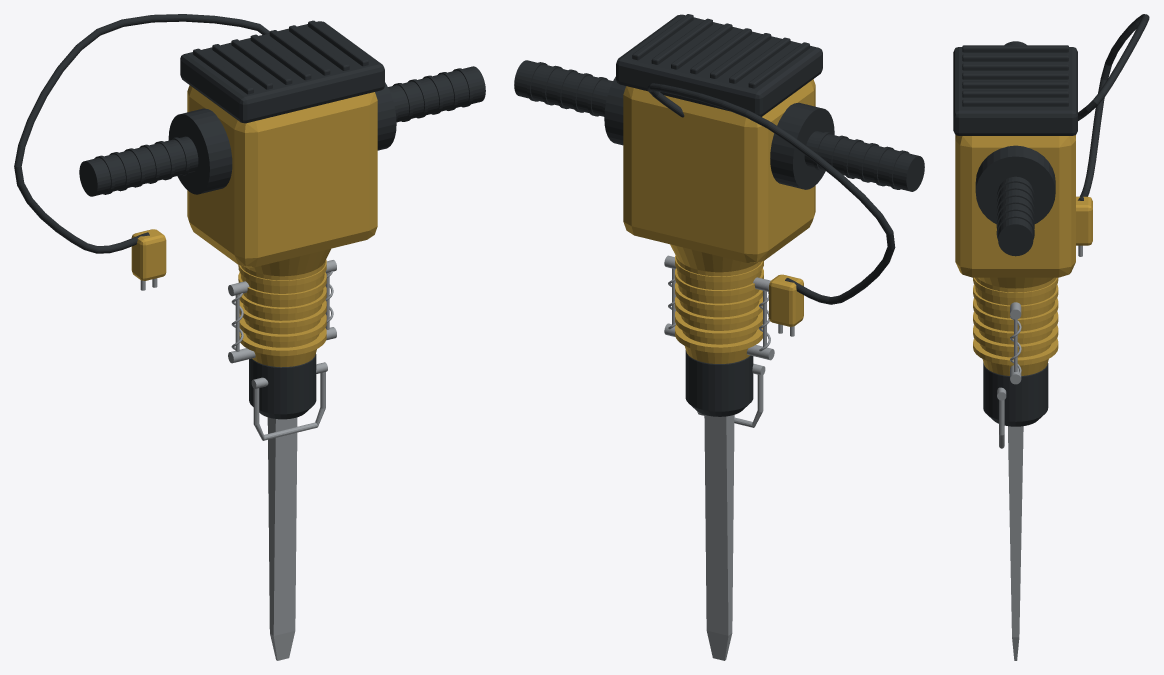
File: full.glb
The picture shows the model from 3 angles, left to right: view 1: azimuth 30°, elevation 25°; view 2: azimuth 150°, elevation 25°; view 3: azimuth 270°, elevation 25°; orthographic projection. The views are drawn at different scales.
Parts seen in each view (by area): view 1: Angular upper motor housing, Broad ribbed upper cap, Long static chisel, Tapered lower barrel, Generic complete cable loop, Opposed rubber grip -1, Side oval grip mount -1, Dark chuck, Opposed rubber grip 1, Generic attached plug, Side oval grip mount 1, U shaped chisel retainer (+4 smaller); view 2: Angular upper motor housing, Broad ribbed upper cap, Long static chisel, Tapered lower barrel, Generic complete cable loop, Dark chuck, Opposed rubber grip -1, Side oval grip mount -1, Opposed rubber grip 1, Generic attached plug, Side oval grip mount 1, Barrel raised collar 0 (+12 smaller); view 3: Angular upper motor housing, Broad ribbed upper cap, Tapered lower barrel, Side oval grip mount 1, Dark chuck, Long static chisel, Generic complete cable loop, Opposed rubber grip 1, Cap raised rib 3, Cap raised rib 4, Cap raised rib 5, Cap raised rib 6 (+10 smaller).
Boxes of the visible parts, bbox=[...] form: Angular upper motor housing: bbox=[187, 85, 377, 267]; Broad ribbed upper cap: bbox=[180, 21, 384, 123]; Long static chisel: bbox=[267, 417, 297, 660]; Tapered lower barrel: bbox=[241, 248, 330, 367]; Generic complete cable loop: bbox=[14, 14, 269, 253]; Opposed rubber grip -1: bbox=[79, 136, 198, 196]; Side oval grip mount -1: bbox=[168, 108, 232, 194]; Dark chuck: bbox=[249, 354, 316, 419]; Opposed rubber grip 1: bbox=[388, 66, 485, 122]; Generic attached plug: bbox=[131, 229, 166, 280]; Side oval grip mount 1: bbox=[375, 82, 396, 150]; U shaped chisel retainer: bbox=[253, 372, 325, 440]; Angular upper motor housing: bbox=[623, 79, 815, 262]; Broad ribbed upper cap: bbox=[616, 14, 822, 116]; Long static chisel: bbox=[704, 415, 734, 660]; Tapered lower barrel: bbox=[670, 244, 761, 363]; Generic complete cable loop: bbox=[647, 83, 895, 304]; Dark chuck: bbox=[685, 350, 753, 416]; Opposed rubber grip -1: bbox=[804, 131, 924, 191]; Side oval grip mount -1: bbox=[770, 102, 834, 189]; Opposed rubber grip 1: bbox=[514, 60, 612, 116]; Generic attached plug: bbox=[769, 274, 803, 326]; Side oval grip mount 1: bbox=[604, 76, 625, 145]; Barrel raised collar 0: bbox=[675, 324, 762, 352]; Angular upper motor housing: bbox=[955, 135, 1075, 277]; Broad ribbed upper cap: bbox=[953, 47, 1077, 135]; Tapered lower barrel: bbox=[975, 277, 1056, 375]; Side oval grip mount 1: bbox=[975, 145, 1055, 223]; Dark chuck: bbox=[983, 362, 1048, 426]; Long static chisel: bbox=[1008, 426, 1023, 660]; Generic complete cable loop: bbox=[1078, 14, 1149, 200]; Opposed rubber grip 1: bbox=[998, 176, 1033, 256]; Cap raised rib 3: bbox=[962, 72, 1068, 79]; Cap raised rib 4: bbox=[962, 81, 1068, 88]; Cap raised rib 5: bbox=[962, 90, 1068, 97]; Cap raised rib 6: bbox=[962, 99, 1068, 106].
Size of the model in its own units: 0.4969 by 0.7047 by 0.211.
